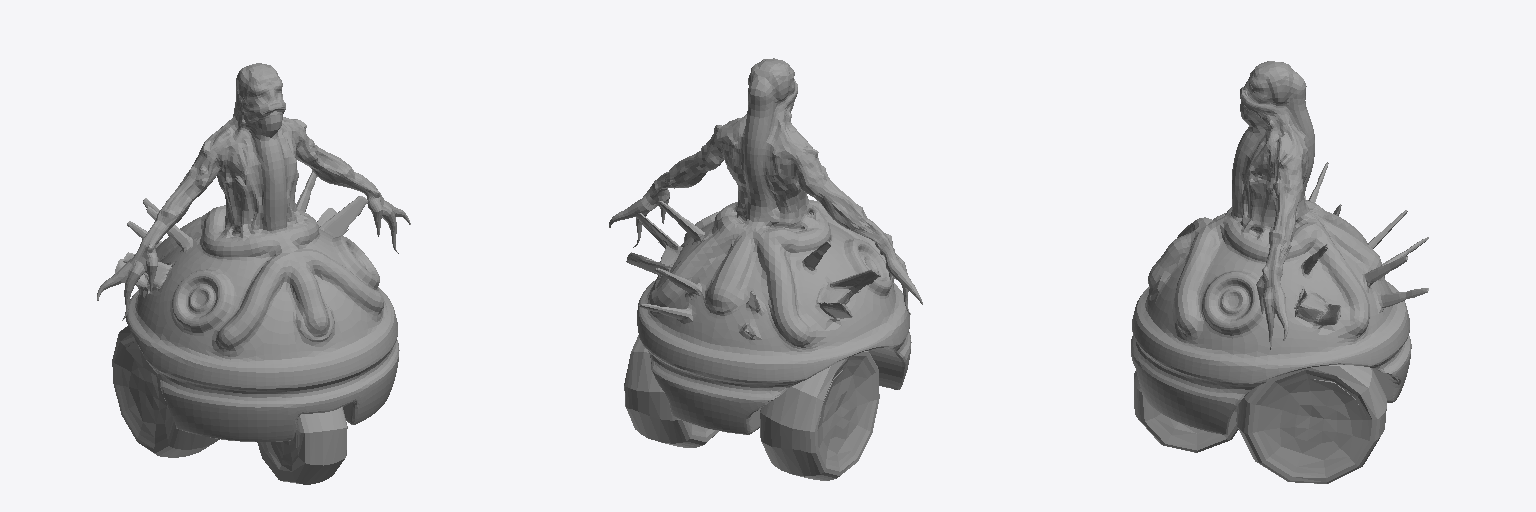
3 renders of one model, left to right at view 1: azimuth 30°, elevation 25°; view 2: azimuth 150°, elevation 25°; view 3: azimuth 270°, elevation 25°, orthographic.
Visible parts, largest first — view 1: body_body_and_middle_whel.003, back_wheels_left_wheel.001, front_wheel_body_and_middle_whel.002; view 2: body_body_and_middle_whel.003, back_wheels_left_wheel.001; view 3: body_body_and_middle_whel.003, back_wheels_left_wheel.001, front_wheel_body_and_middle_whel.002.
Boxes of the visible parts, x1=… form: body_body_and_middle_whel.003: x1=97, y1=63, x2=410, y2=441; back_wheels_left_wheel.001: x1=112, y1=326, x2=219, y2=457; front_wheel_body_and_middle_whel.002: x1=257, y1=407, x2=347, y2=484; body_body_and_middle_whel.003: x1=609, y1=58, x2=922, y2=434; back_wheels_left_wheel.001: x1=624, y1=335, x2=879, y2=480; body_body_and_middle_whel.003: x1=1131, y1=61, x2=1428, y2=434; back_wheels_left_wheel.001: x1=1236, y1=306, x2=1386, y2=483; front_wheel_body_and_middle_whel.002: x1=1134, y1=371, x2=1238, y2=452.
Bounding box in the file's own units: 5.69 × 6.65 × 4.69.